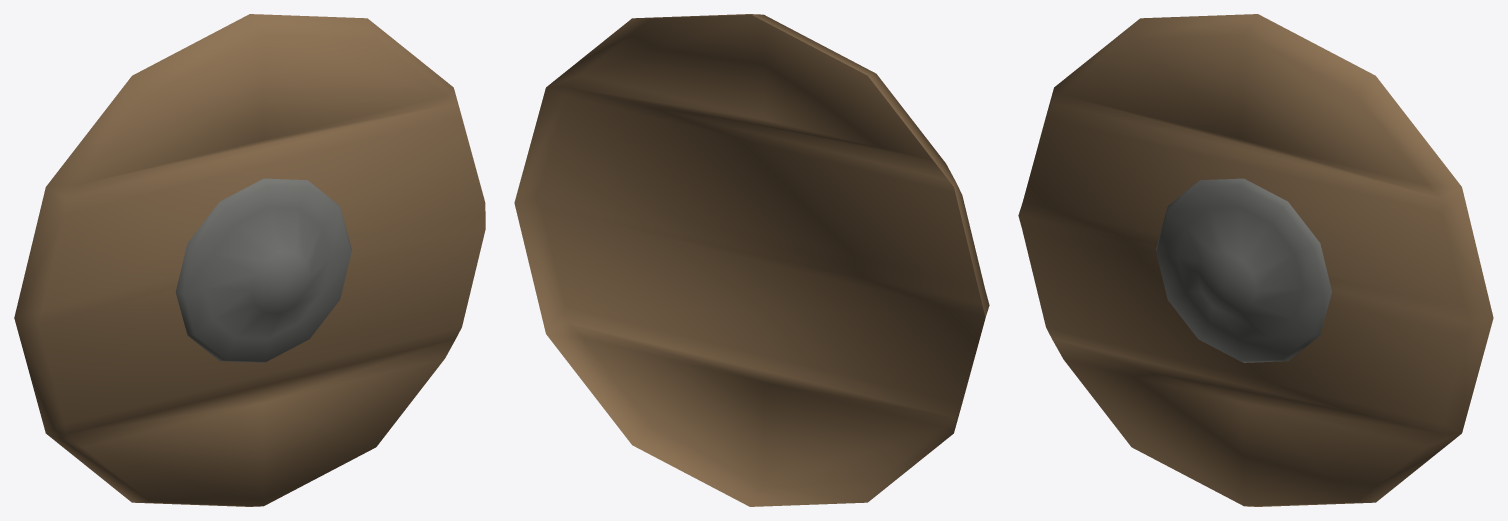
Rendered from rpgpp_ag_shield_wall_02.fbx.
3 views of the same model, side by side, from view 1: azimuth 30°, elevation 25°; view 2: azimuth 150°, elevation 25°; view 3: azimuth 330°, elevation 25° (orthographic).
Visible parts, largest first — view 1: rpgpp_ag_shield_wall_02; view 2: rpgpp_ag_shield_wall_02; view 3: rpgpp_ag_shield_wall_02.
Part boxes in pixels (<box>): rpgpp_ag_shield_wall_02: <box>14,14,485,506</box>; rpgpp_ag_shield_wall_02: <box>514,14,989,506</box>; rpgpp_ag_shield_wall_02: <box>1018,14,1493,506</box>.
Bounding box in the file's own units: 0.9261 × 0.9261 × 0.12.
